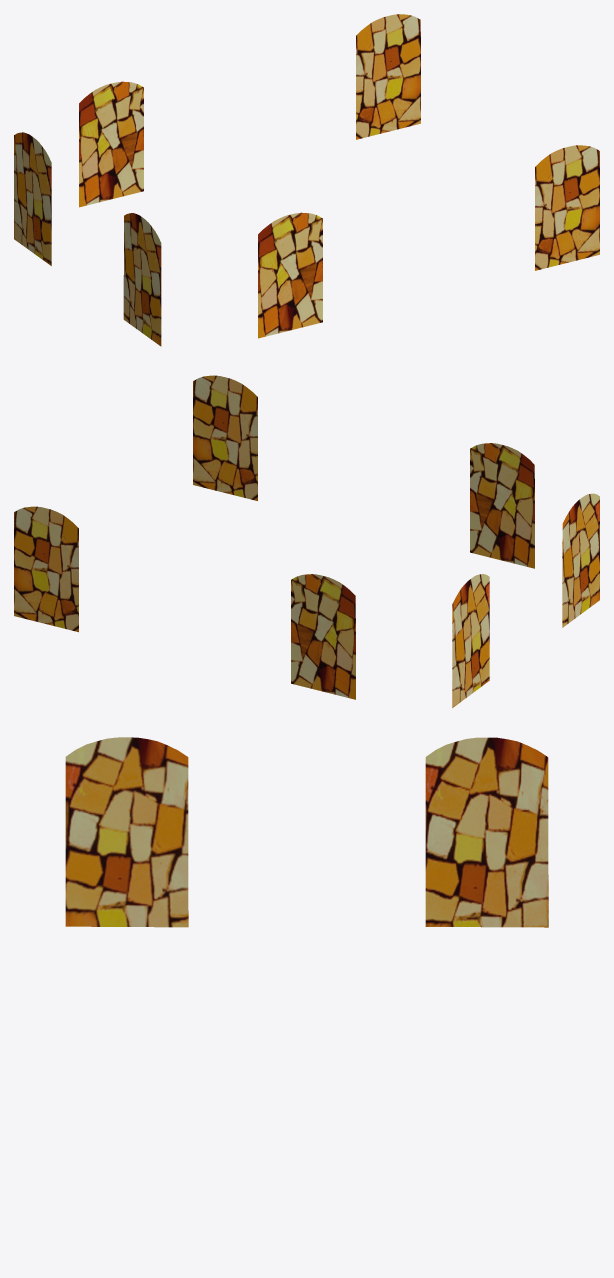
File: throne_windows.obj
The picture shows the model from 3 angles, top to bottom: view 1: azimuth 30°, elevation 25°; view 2: azimuth 150°, elevation 25°; view 3: azimuth 270°, elevation 25°; orthographic projection. The views are drawn at different scales.
Visible parts, largest first — view 1: Plane.002_Plane.005; view 2: Plane.002_Plane.005; view 3: Plane.002_Plane.005.
Boxes of the visible parts, x1,y1,x2,y2 form: Plane.002_Plane.005: (14,14,599,346); Plane.002_Plane.005: (14,375,599,707); Plane.002_Plane.005: (65,737,548,927).
Bounding box in the file's own units: 57.26 × 15.08 × 42.
1 material, 1 textured.
